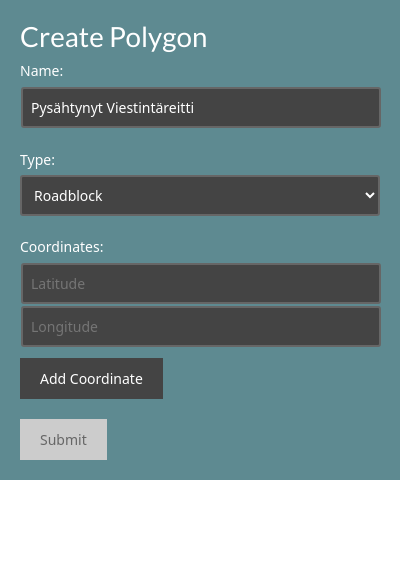
Test: selecting type custom speed switches to custom speed
The width and height of the screenshot is (417, 586).
Select "Custom Speed" in the dropdown labelled "Type:" at (200, 196), box [20, 175, 380, 216]
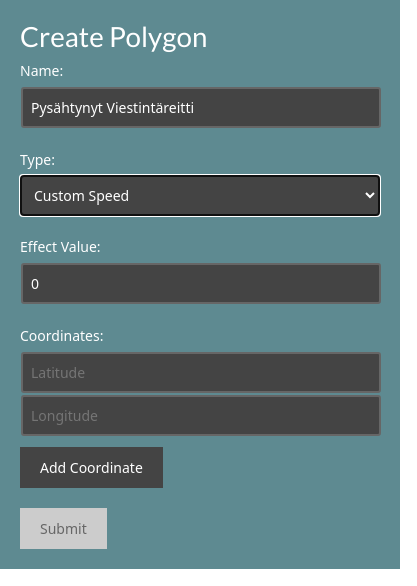
Check: the field labelled "Effect Value:" is shown, box [21, 263, 381, 304]
